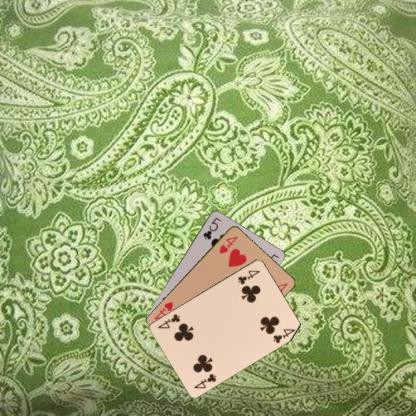4c: (191, 371, 218, 389), (235, 267, 261, 285)
4h: (217, 234, 239, 254)
5c: (201, 214, 223, 240)
